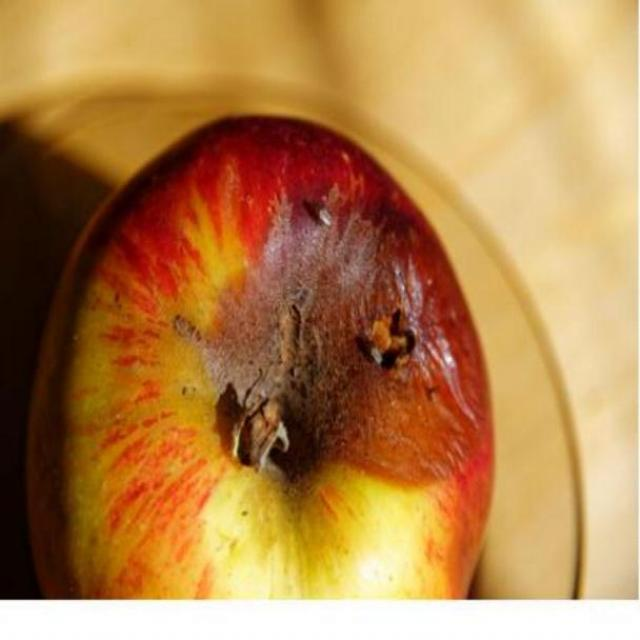ROT: (39, 100, 516, 597)
